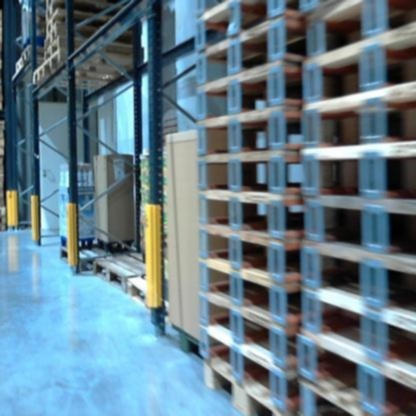pallets: (194, 0, 416, 416), (35, 1, 63, 83), (93, 253, 145, 295)
